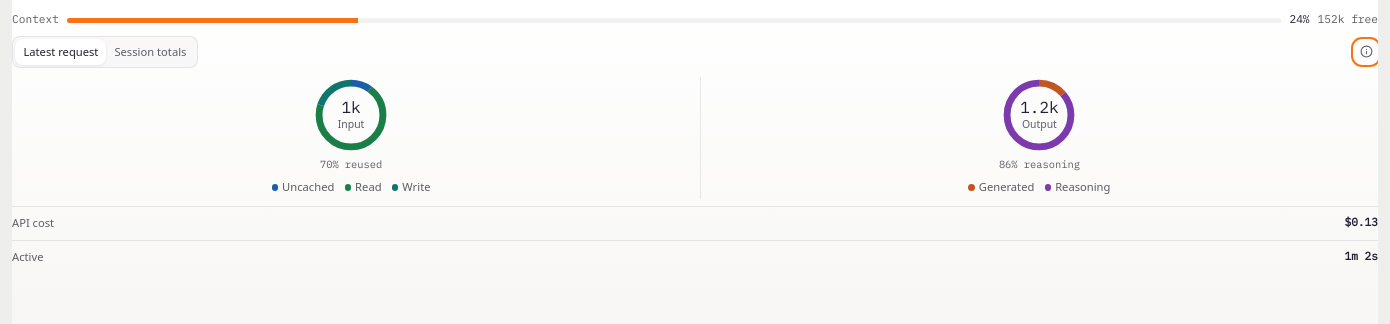
Test case: SessionUsageBar › makes usage explanations available through the focusable help control
Hover over the button named "About token usage" at (1366, 52), box [1354,40,1378,64]
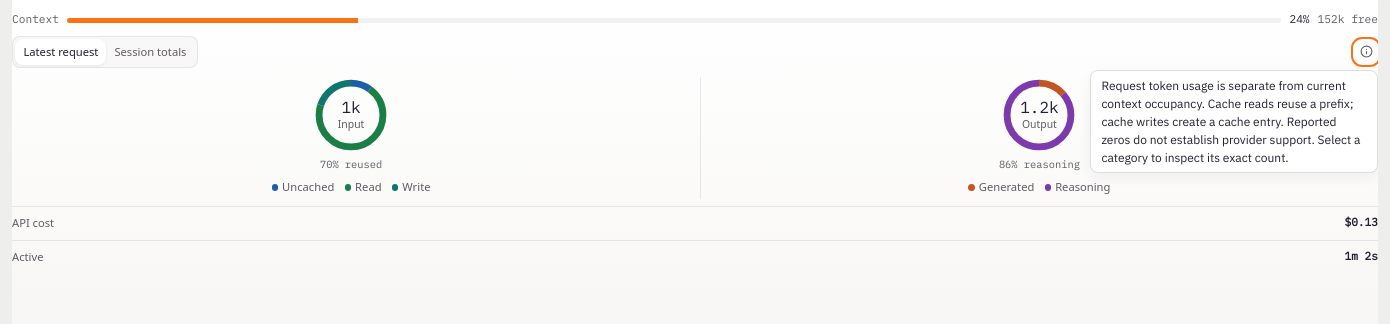
expect the text "separate from current context occupancy" is shown: met, box [1101,78,1360,165]
